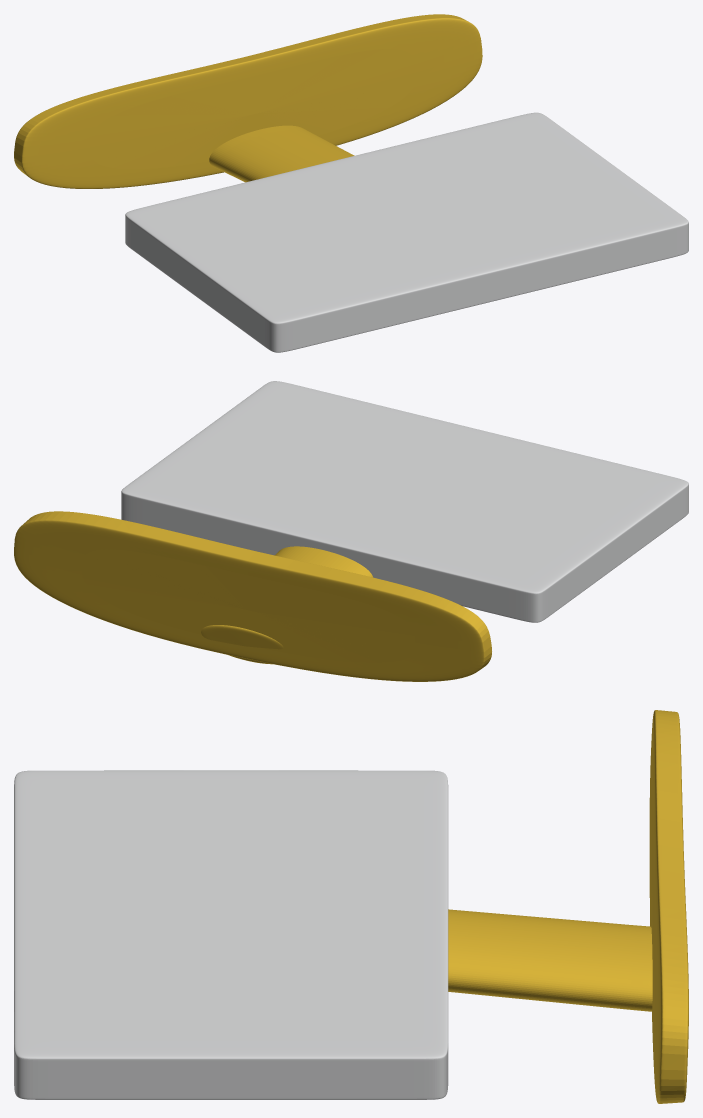
File: 19_curved_monitor.glb
3 renders of one model, top to bottom at view 1: azimuth 30°, elevation 25°; view 2: azimuth 150°, elevation 25°; view 3: azimuth 270°, elevation 25°, orthographic. The views are drawn at different scales.
Visible parts, largest first — view 1: superquadric_2, superquadric_0, superquadric_1; view 2: superquadric_2, superquadric_0, superquadric_1; view 3: superquadric_2, superquadric_1, superquadric_0.
Boxes of the visible parts, box(x1,y1,x2,y2) form: superquadric_2: box(125, 112, 688, 352); superquadric_0: box(14, 14, 482, 188); superquadric_1: box(209, 125, 354, 182); superquadric_2: box(121, 381, 688, 622); superquadric_0: box(14, 511, 491, 681); superquadric_1: box(201, 546, 372, 664); superquadric_2: box(14, 770, 448, 1099); superquadric_1: box(448, 909, 652, 1011); superquadric_0: box(649, 710, 688, 1103).
Bounding box in the file's own units: 1 × 0.2209 × 0.8918.
